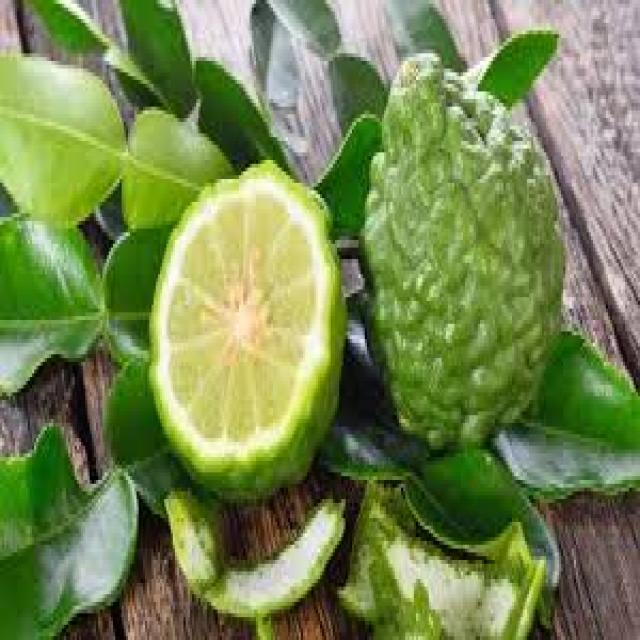Chuc: (357, 49, 566, 450), (145, 156, 348, 499)
